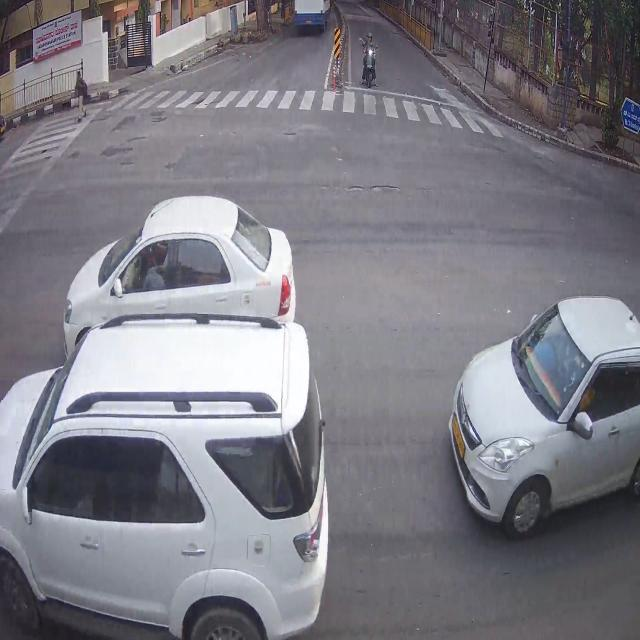Bus: (296, 0, 332, 37)
Car: (8, 372, 322, 621), (463, 339, 636, 510), (60, 228, 293, 325), (362, 38, 388, 90)
